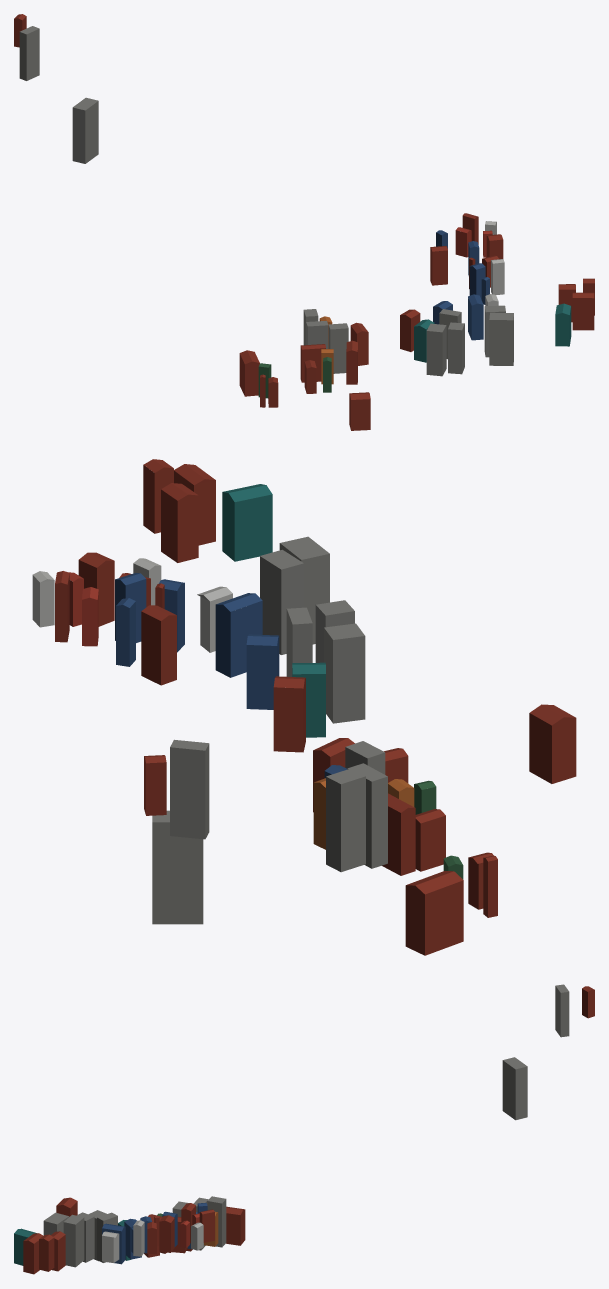
File: near-17-109435-59477.4eeb24b0.glb
3 views of the same model, one above another, from view 1: azimuth 30°, elevation 25°; view 2: azimuth 150°, elevation 25°; view 3: azimuth 270°, elevation 25° (orthographic). The views are drawn at different scales.
Size of the model in its own units: 169 by 131 by 295.
